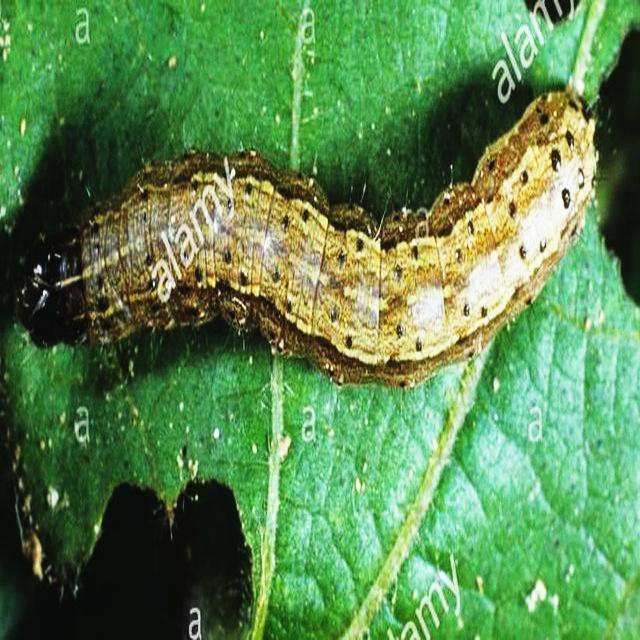gusano_cogollero: (15, 90, 597, 390)
